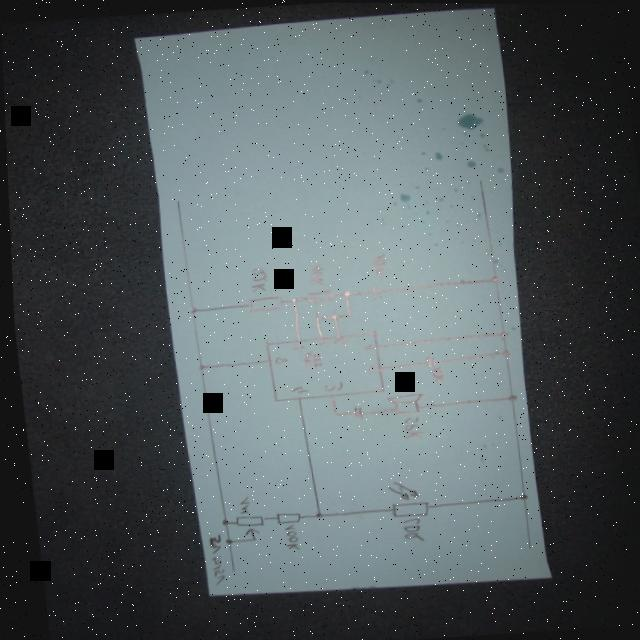capacitor: (366, 282, 381, 298), (348, 404, 360, 419), (421, 353, 433, 366)
junction: (501, 391, 514, 400), (485, 273, 497, 282), (496, 346, 508, 355), (184, 305, 195, 314), (513, 490, 524, 499), (308, 509, 319, 518), (338, 287, 349, 296), (495, 328, 505, 337), (214, 516, 223, 525), (326, 311, 337, 318), (326, 409, 336, 416), (192, 362, 201, 369), (218, 535, 227, 542), (286, 295, 294, 302), (341, 310, 349, 316), (310, 313, 317, 319)
resistor: (381, 477, 425, 517), (228, 512, 263, 541), (243, 293, 280, 311), (300, 286, 331, 302), (270, 509, 296, 523)
terminal: (474, 175, 483, 184), (172, 197, 179, 203), (521, 541, 527, 547), (224, 566, 230, 571)
text: (202, 532, 220, 583), (395, 515, 420, 540), (244, 264, 266, 291), (398, 413, 420, 438), (278, 521, 296, 549), (366, 250, 385, 275), (304, 260, 323, 285), (297, 349, 318, 370), (424, 363, 440, 381), (232, 494, 246, 513), (318, 379, 340, 390), (284, 383, 306, 392), (286, 339, 301, 350), (268, 353, 284, 363), (363, 362, 378, 372), (358, 340, 371, 349), (329, 335, 343, 342), (312, 337, 325, 344)
